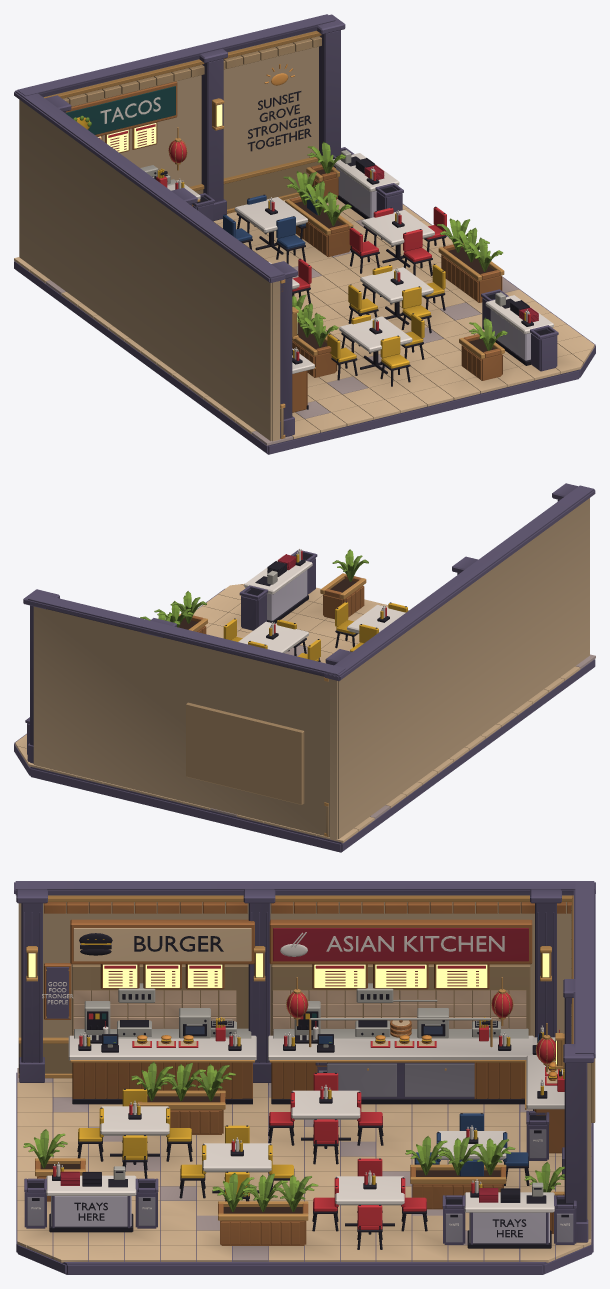
The picture shows the model from 3 angles, top to bottom: view 1: azimuth 30°, elevation 25°; view 2: azimuth 150°, elevation 25°; view 3: azimuth 270°, elevation 25°; orthographic projection. The views are drawn at different scales.
Parts seen in each view (by area): view 1: interior_pal_canvasTan, interior_pal_trouserViolet, roof_pal_trouserViolet, interior_pal_picketWhite, interior_pal_woodWarm, interior_pal_uiDark, interior_pal_khaki, interior_pal_brass, interior_pal_schoolBusYellow, interior_pal_foliage, interior_pal_tealDark, interior_pal_survivorRed (+7 smaller); view 2: interior_pal_canvasTan, roof_pal_trouserViolet, interior_pal_trouserViolet, interior_pal_khaki, interior_pal_picketWhite, interior_pal_schoolBusYellow, interior_pal_teeLavender, interior_pal_uiDark, interior_pal_woodWarm, interior_pal_foliage, interior_pal_grass, interior_pal_brass; view 3: interior_pal_canvasTan, interior_pal_trouserViolet, interior_pal_woodWarm, interior_pal_picketWhite, interior_pal_uiDark, roof_pal_trouserViolet, interior_pal_bandage, interior_pal_brass, interior_pal_redDark, interior_pal_khaki, interior_pal_silver, interior_pal_hairSilver (+11 smaller).
Part boxes in pixels (x1=…): interior_pal_canvasTan: x1=14, y1=30, x2=594, y2=441; interior_pal_trouserViolet: x1=14, y1=14, x2=595, y2=454; roof_pal_trouserViolet: x1=14, y1=14, x2=335, y2=282; interior_pal_picketWhite: x1=100, y1=97, x2=553, y2=373; interior_pal_woodWarm: x1=66, y1=81, x2=502, y2=412; interior_pal_uiDark: x1=152, y1=91, x2=551, y2=409; interior_pal_khaki: x1=62, y1=36, x2=321, y2=438; interior_pal_brass: x1=44, y1=31, x2=504, y2=438; interior_pal_schoolBusYellow: x1=76, y1=117, x2=525, y2=368; interior_pal_foliage: x1=73, y1=115, x2=507, y2=350; interior_pal_tealDark: x1=66, y1=86, x2=175, y2=134; interior_pal_survivorRed: x1=99, y1=124, x2=530, y2=360; interior_pal_canvasTan: x1=15, y1=498, x2=589, y2=842; roof_pal_trouserViolet: x1=27, y1=485, x2=595, y2=681; interior_pal_trouserViolet: x1=14, y1=483, x2=595, y2=852; interior_pal_khaki: x1=186, y1=702, x2=328, y2=836; interior_pal_picketWhite: x1=238, y1=548, x2=405, y2=653; interior_pal_schoolBusYellow: x1=223, y1=554, x2=407, y2=661; interior_pal_teeLavender: x1=266, y1=570, x2=307, y2=620; interior_pal_uiDark: x1=225, y1=554, x2=406, y2=661; interior_pal_woodWarm: x1=184, y1=574, x2=364, y2=633; interior_pal_foliage: x1=157, y1=549, x2=368, y2=627; interior_pal_grass: x1=140, y1=555, x2=368, y2=626; interior_pal_brass: x1=179, y1=573, x2=366, y2=836; interior_pal_canvasTan: x1=17, y1=895, x2=591, y2=1262; interior_pal_trouserViolet: x1=16, y1=889, x2=594, y2=1274; interior_pal_woodWarm: x1=35, y1=902, x2=571, y2=1245; interior_pal_picketWhite: x1=31, y1=932, x2=569, y2=1225; interior_pal_uiDark: x1=27, y1=933, x2=573, y2=1249; roof_pal_trouserViolet: x1=14, y1=881, x2=595, y2=1058; interior_pal_bandage: x1=73, y1=990, x2=526, y2=1035; interior_pal_brass: x1=18, y1=895, x2=573, y2=1220; interior_pal_redDark: x1=60, y1=928, x2=528, y2=1202; interior_pal_khaki: x1=18, y1=905, x2=595, y2=1122; interior_pal_silver: x1=74, y1=983, x2=562, y2=1205; interior_pal_hairSilver: x1=27, y1=1063, x2=573, y2=1242.
Size of the model in its own units: 10.11 by 4.92 by 12.8.
